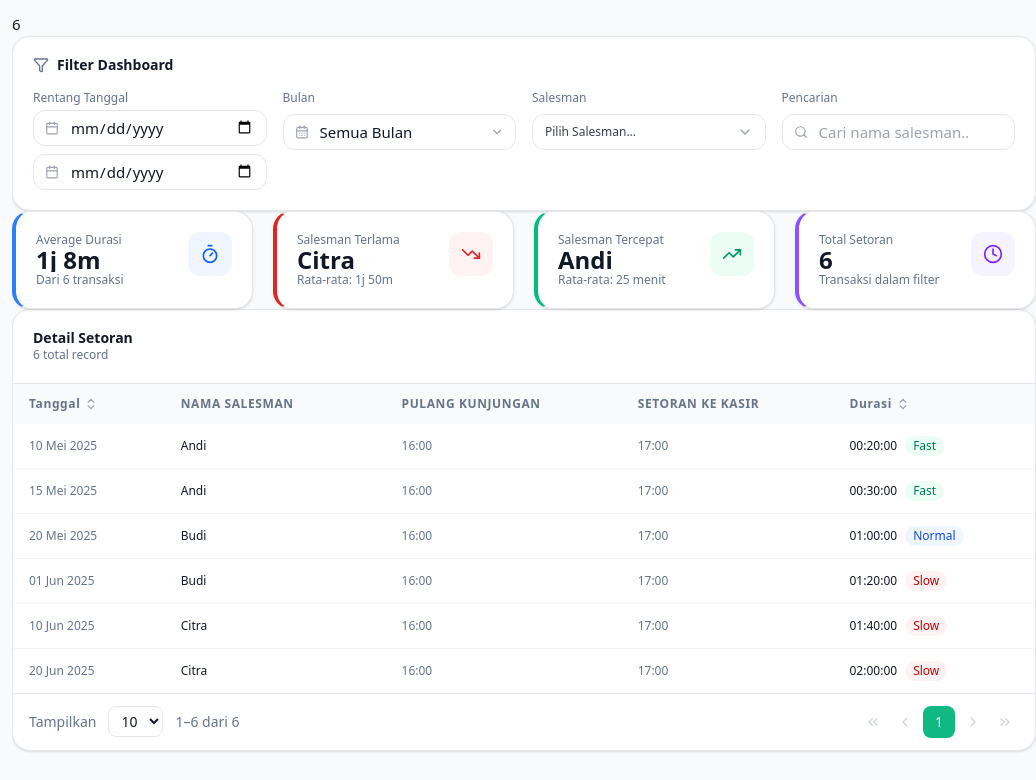
Workflow 1 — Complete filter workflow (Requirement 6.5) › full dashboard harness: reset button clears all filters at once
Note: Activate a filter — target the month select by its label
Step 1. Select "Mei 2025" in the dropdown labelled "Bulan" → (399, 132), box [282,114,516,150]
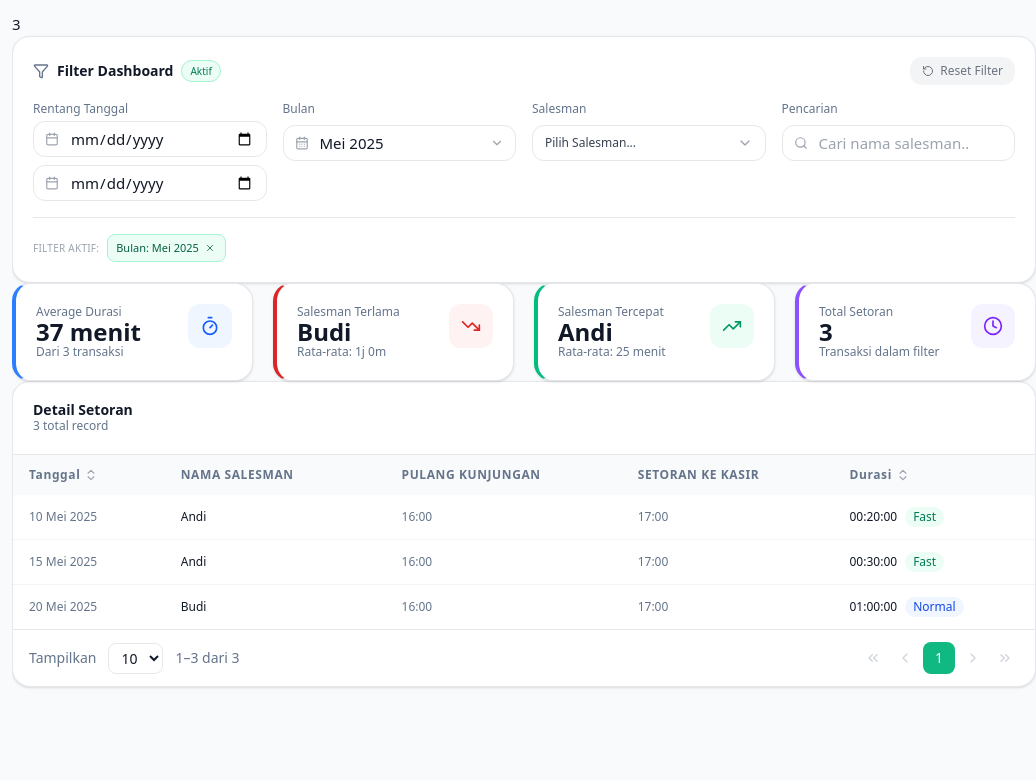
Check: the text with test id "record-count" reads "3", box [12,14,21,34]
Note: Reset via FilterBar reset button
Step 2. Click the button with aria-label "reset semua filter" → (963, 71), box [910,57,1015,85]
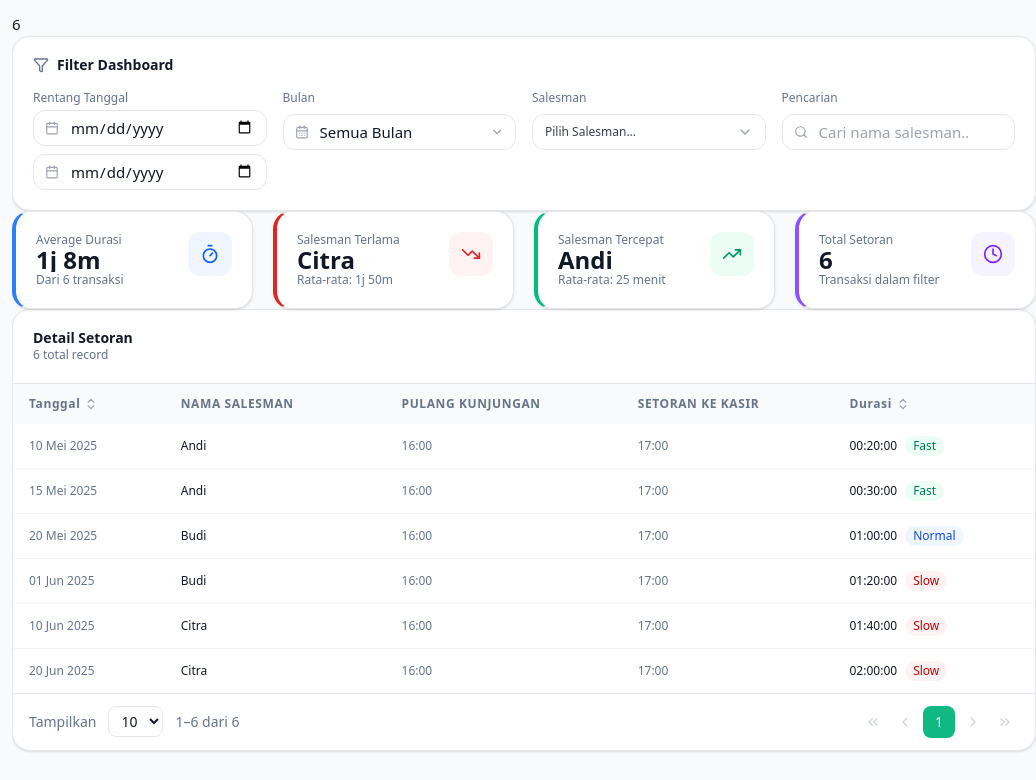
Check: the text with test id "record-count" reads "6", box [12,14,21,34]
